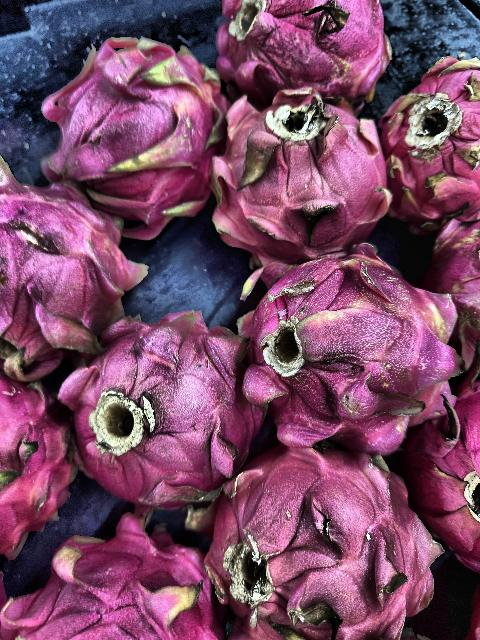buah-naga-matang: (213, 438, 448, 640), (232, 244, 458, 446), (54, 310, 250, 502), (0, 143, 160, 369), (42, 32, 214, 224), (211, 90, 391, 252), (352, 32, 480, 220), (15, 524, 219, 640), (207, 0, 398, 104)
